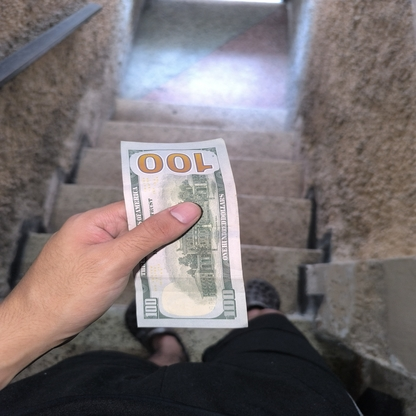one_hundred-back: (116, 133, 253, 339)
